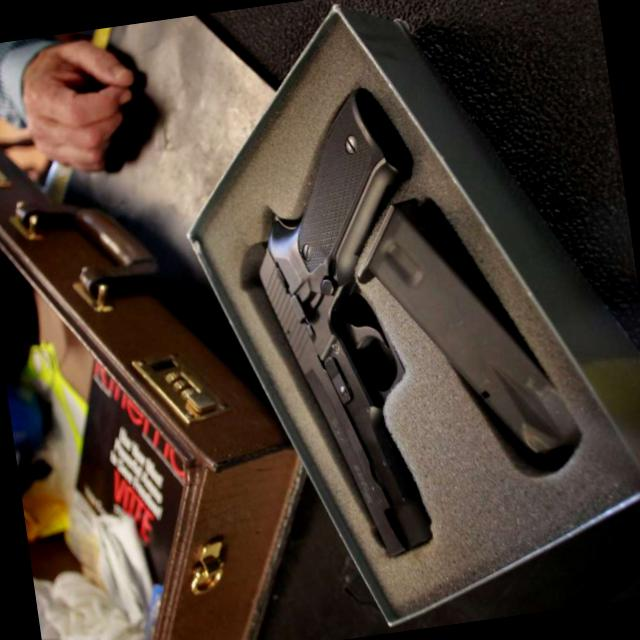handgun: (230, 86, 466, 566)
